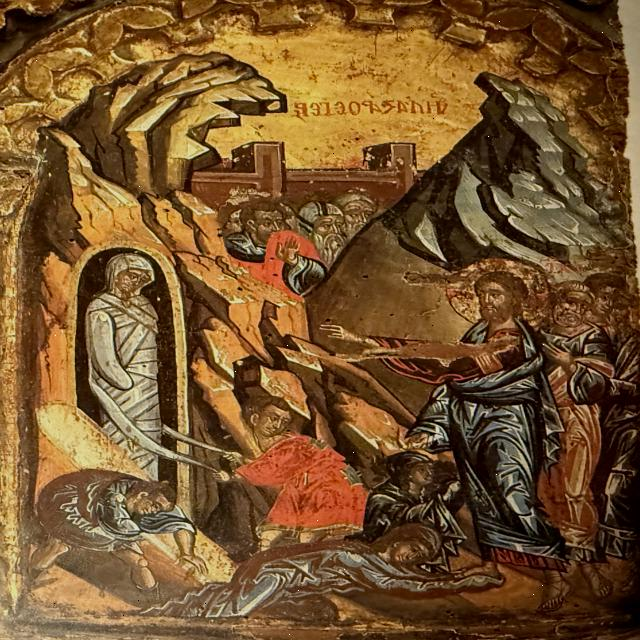aura: (447, 260, 551, 330)
christ: (327, 261, 551, 615)
christ_hand: (314, 322, 396, 352)
